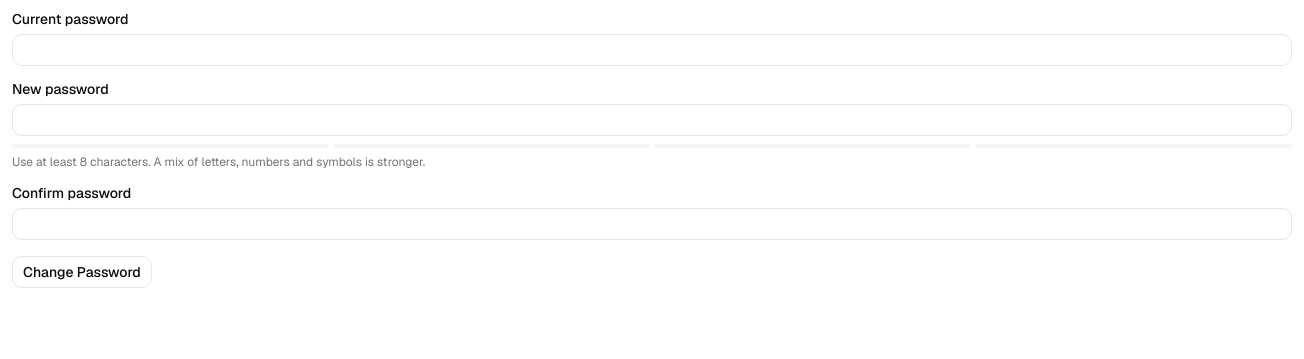
Scenario: ChangePasswordForm (us-11) › submits the current and new passwords and shows an error
Type "oldpassword" into the password field labelled "Current password" at (652, 50), box [12,34,1292,66]
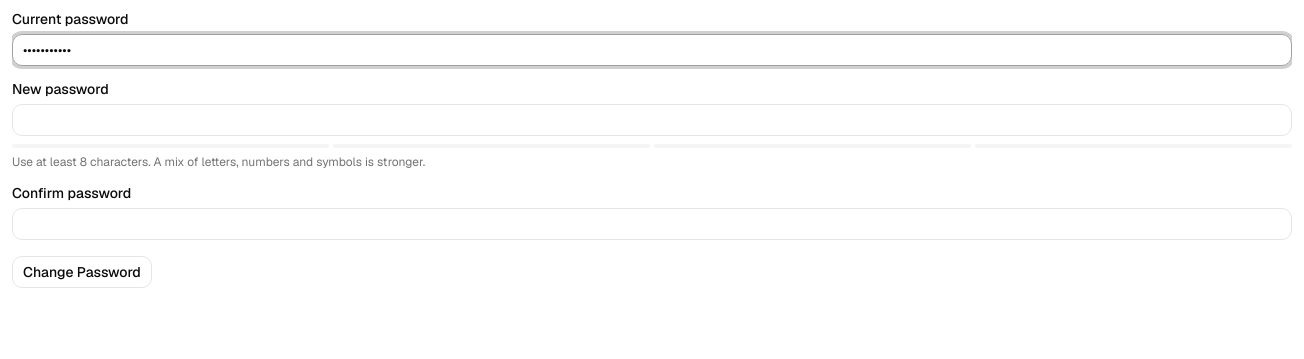
Type "newpassword1" into the password field labelled "New password" at (652, 120), box [12,104,1292,136]
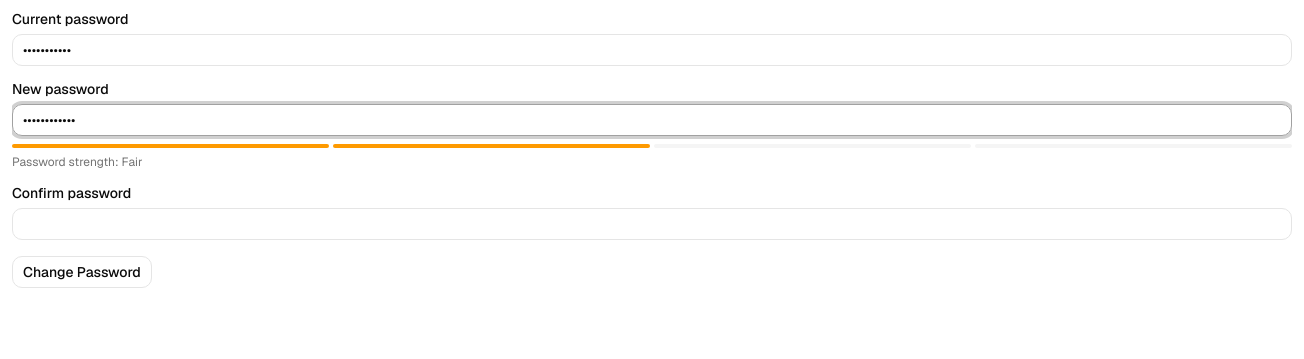
Type "newpassword1" into the password field labelled "Confirm password" at (652, 224), box [12,208,1292,240]
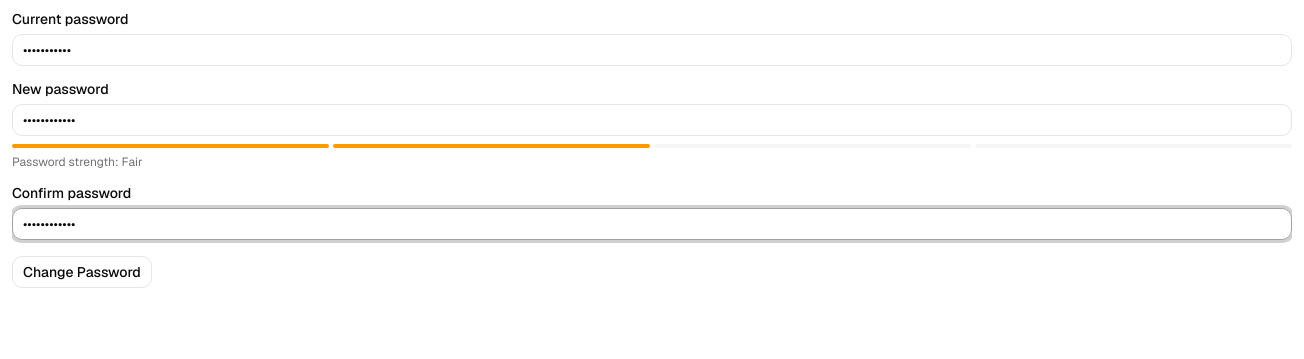
Click the button "Change Password" at (82, 272), box [12,256,152,288]
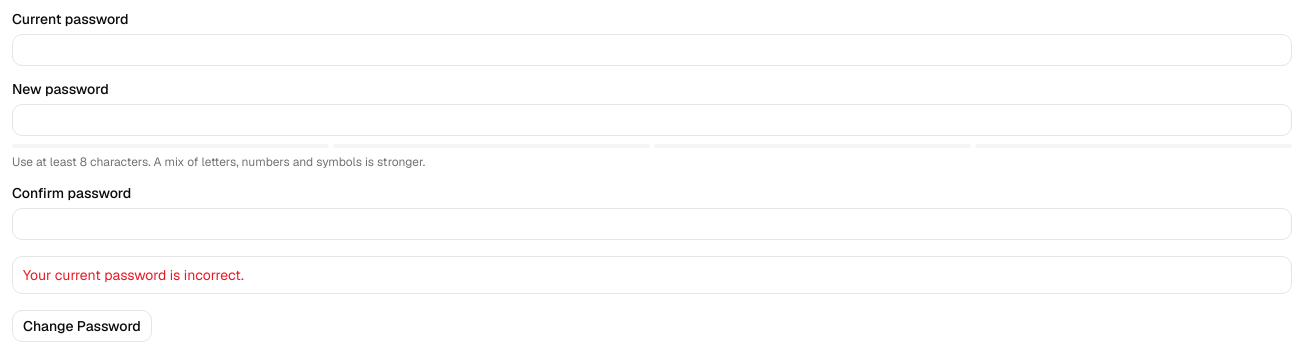
expect the text "Your current password is incorrect." is shown: met, box [23,266,244,284]
